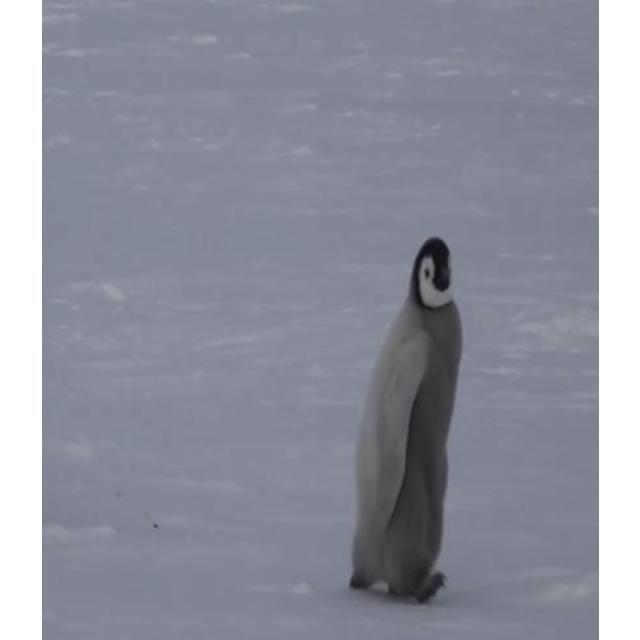penguin: (348, 235, 466, 605)
